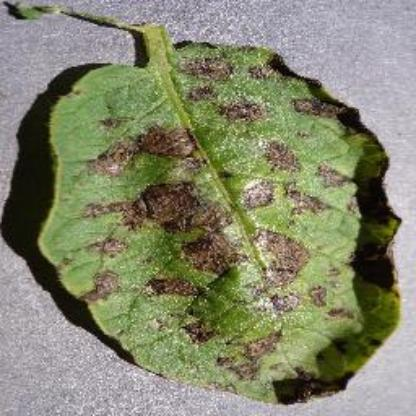Early-Blight: (36, 18, 404, 408)
